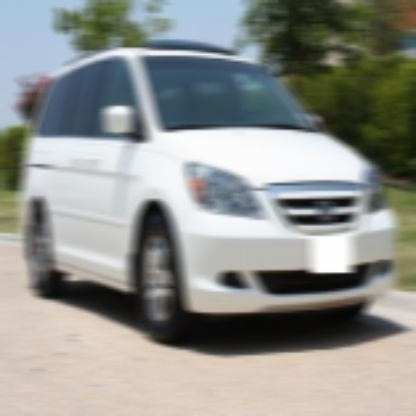Vehicle: (19, 37, 398, 349)
